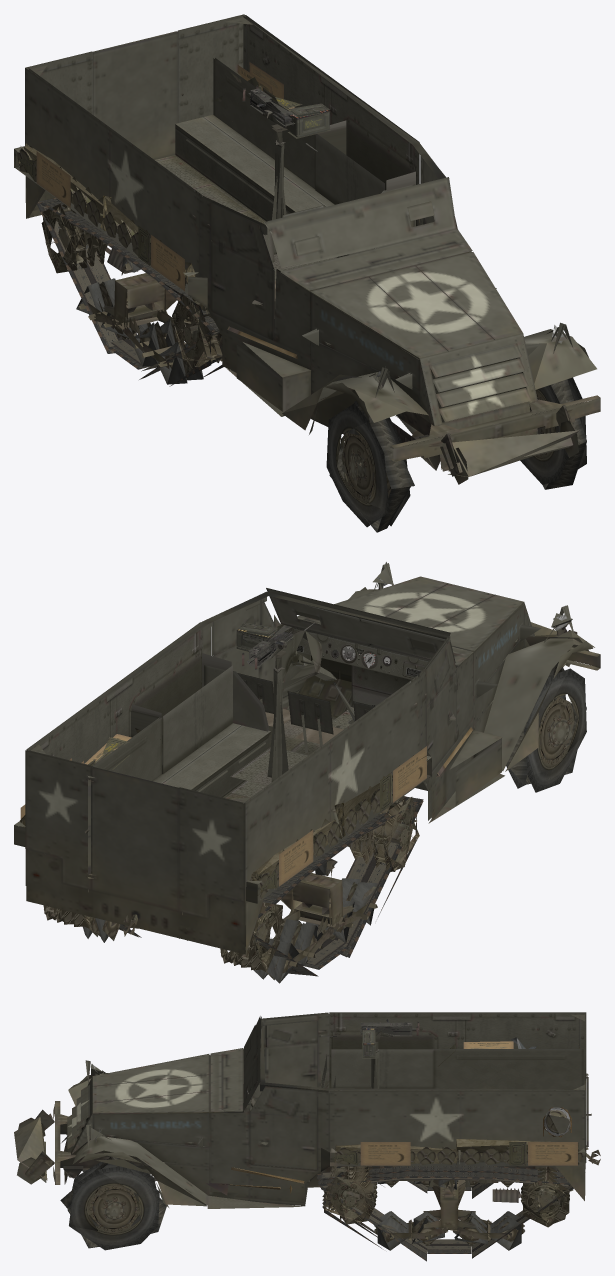
Rendered from m3_halftrack_mobil.glb.
3 renders of one model, top to bottom at view 1: azimuth 30°, elevation 25°; view 2: azimuth 150°, elevation 25°; view 3: azimuth 270°, elevation 25°, orthographic. The views are drawn at different scales.
Parts seen in each view (by area): view 1: hull.001, open-interior, hatch3.001, wheel.001, hatch2.001, hull2, track1, wheel2, wheel13, wheel3, weapon.001, d-optionb (+7 smaller); view 2: hull.001, open-interior, hatch3.001, wheel.001, track1, hull2, hatch2.001, wheel3, hatch.001, wheel13, weapon.001, d-optionb (+10 smaller); view 3: hull.001, open-interior, wheel2, hatch.001, track2, hatch2.001, wheel4, wheel14, a-optionb, b-optionc, hull2, weapon.001 (+10 smaller).
Boxes of the visible parts, box(x1,y1,x2,y2) form: hull.001: box(14, 14, 600, 484); open-interior: box(26, 15, 526, 433); hatch3.001: box(92, 31, 178, 159); wheel.001: box(326, 401, 414, 532); hatch2.001: box(211, 202, 274, 340); hull2: box(87, 237, 540, 470); track1: box(37, 198, 223, 386); wheel2: box(519, 377, 586, 489); wheel13: box(41, 204, 107, 273); wheel3: box(172, 294, 222, 369); weapon.001: box(242, 85, 330, 151); d-optionb: box(138, 225, 184, 291); hull.001: box(14, 562, 600, 969); open-interior: box(26, 602, 521, 946); hatch3.001: box(88, 767, 178, 910); wheel.001: box(506, 662, 586, 792); track1: box(252, 796, 423, 976); hull2: box(326, 624, 541, 877); hatch2.001: box(426, 641, 457, 770); wheel3: box(349, 797, 419, 872); hatch.001: box(212, 599, 275, 692); wheel13: box(220, 902, 284, 971); weapon.001: box(236, 622, 315, 669); d-optionb: box(380, 746, 426, 812); hull.001: box(14, 1012, 600, 1240); open-interior: box(87, 1013, 586, 1204); wheel2: box(60, 1157, 166, 1250); hatch.001: box(249, 1086, 317, 1169); track2: box(317, 1166, 573, 1261); hatch2.001: box(250, 1021, 317, 1099); wheel4: box(322, 1166, 377, 1224); wheel14: box(521, 1166, 569, 1227); a-optionb: box(509, 1142, 577, 1165); b-optionc: box(332, 1142, 410, 1165); hull2: box(77, 1117, 573, 1202); weapon.001: box(321, 1019, 419, 1058).
Size of the model in its own units: 2.19 by 2.34 by 6.19.
9 materials, 9 textured.
